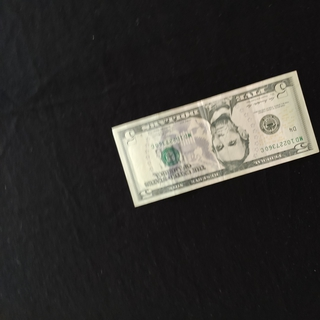5USDFront: (111, 69, 320, 208)
